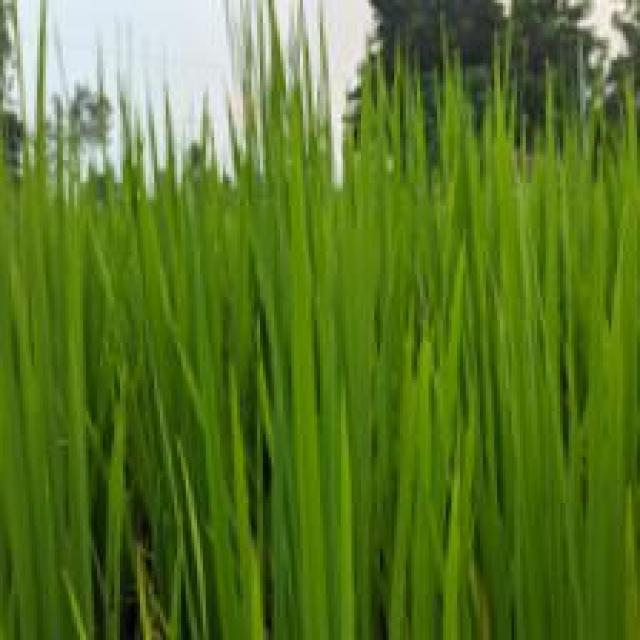HealthyLeaf: (5, 442, 57, 638), (298, 454, 330, 637)
